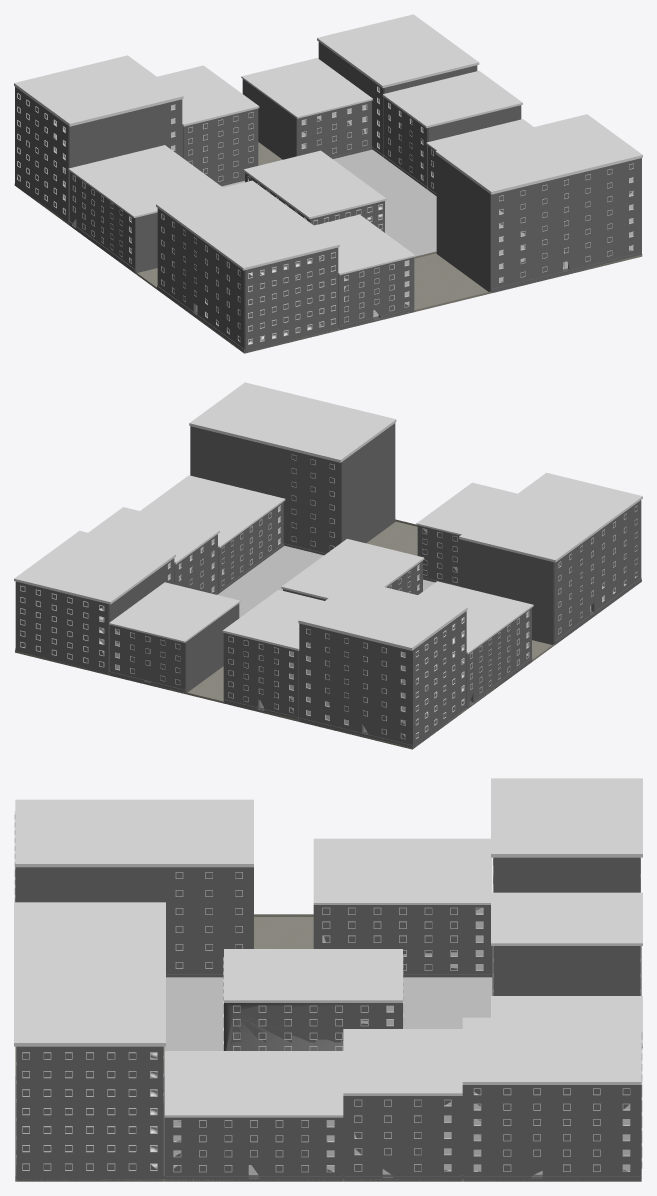
File: Block03.fbx
The picture shows the model from 3 angles, top to bottom: view 1: azimuth 30°, elevation 25°; view 2: azimuth 150°, elevation 25°; view 3: azimuth 270°, elevation 25°; orthographic projection. The views are drawn at different scales.
Visible parts, largest first — view 1: BC40_F07.003, BC40_F06.002, BC30_F07.004, BR30_F05.005, BR20_F04.003, BC30_F06.002, BR20_F05.006, BR20_F06.004, BR20_F05.004, BD30_F04.006, Courtyard.002, BuildingArea.002 (+1 smaller); view 2: BC40_F07.003, BC30_F07.004, BC40_F06.002, BC30_F06.002, BR20_F04.003, BR20_F06.004, BR20_F04.004, BR30_F05.005, BR20_F05.006, BD30_F04.006, BR20_F05.004, Courtyard.002 (+1 smaller); view 3: BC40_F07.003, BC40_F06.002, BC30_F06.002, BR20_F04.004, BR30_F05.005, BR20_F05.006, BC30_F07.004, BD30_F04.006, BR20_F06.004, Courtyard.002, BR20_F05.004, BR20_F04.003 (+1 smaller).
Boxes of the visible parts, x1,y1,x2,y2 form: BC40_F07.003: (435, 114, 642, 293); BC40_F06.002: (156, 180, 339, 353); BC30_F07.004: (14, 55, 183, 223); BR30_F05.005: (68, 145, 222, 272); BR20_F04.003: (241, 58, 372, 159); BC30_F06.002: (317, 14, 479, 157); BR20_F05.006: (382, 71, 522, 189); BR20_F06.004: (157, 65, 259, 186); BR20_F05.004: (314, 214, 415, 330); BD30_F04.006: (243, 150, 386, 232); Courtyard.002: (222, 149, 436, 256); BuildingArea.002: (14, 142, 642, 353); BC40_F07.003: (189, 382, 396, 555); BC30_F07.004: (298, 579, 467, 748); BC40_F06.002: (459, 472, 642, 644); BC30_F06.002: (14, 530, 175, 674); BR20_F04.003: (109, 582, 240, 693); BR20_F06.004: (222, 590, 324, 719); BR20_F04.004: (140, 475, 285, 593); BR30_F05.005: (418, 581, 533, 708); BR20_F05.006: (88, 507, 219, 594); BD30_F04.006: (281, 539, 424, 600); BR20_F05.004: (416, 482, 517, 586); Courtyard.002: (217, 545, 434, 617); BC40_F07.003: (14, 942, 165, 1181); BC40_F06.002: (14, 799, 253, 977); BC30_F06.002: (462, 1017, 642, 1181); BR20_F04.004: (164, 1051, 343, 1181); BR30_F05.005: (313, 838, 492, 977); BR20_F05.006: (343, 1029, 462, 1181); BC30_F07.004: (491, 778, 642, 987); BD30_F04.006: (223, 949, 403, 1050); BR20_F06.004: (491, 892, 642, 995); Courtyard.002: (164, 977, 492, 1050); BR20_F05.004: (14, 902, 165, 941); BR20_F04.003: (491, 996, 642, 1048).
Bounding box in the file's own units: 10550 × 2570 × 10550.
